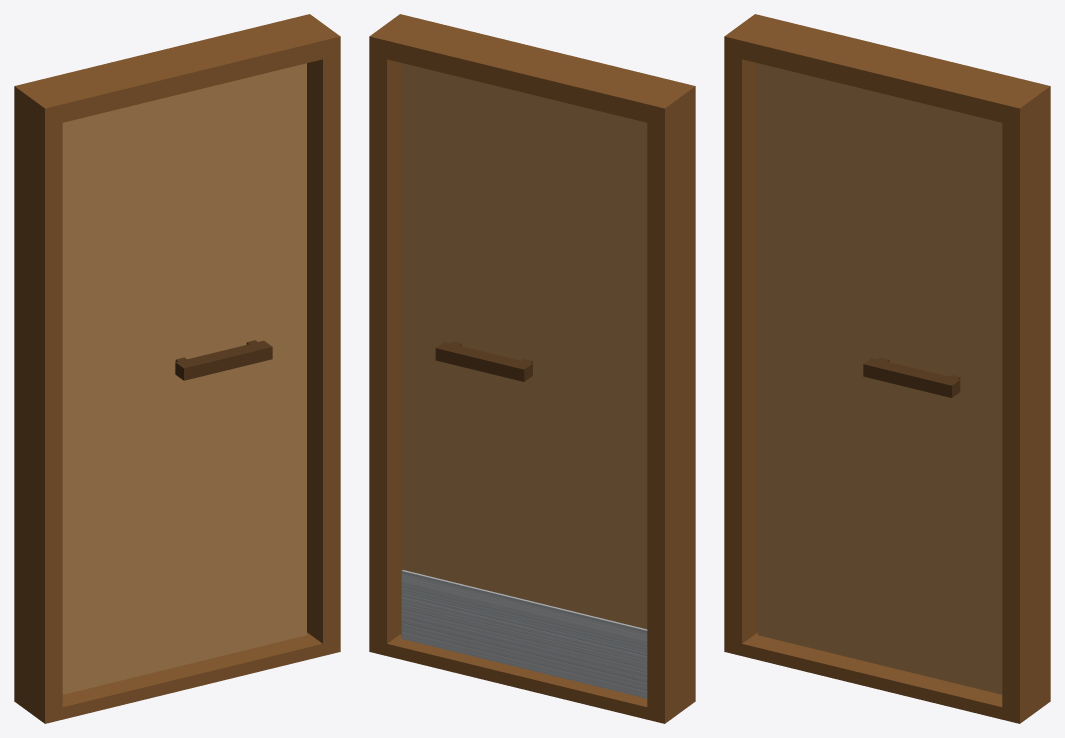
File: door-wood-1.glb
3 renders of one model, left to right at view 1: azimuth 30°, elevation 25°; view 2: azimuth 150°, elevation 25°; view 3: azimuth 330°, elevation 25°, orthographic.
Parts seen in each view (by area): view 1: passenger-swing-door, DoorWood1; view 2: passenger-swing-door, DoorWood1; view 3: passenger-swing-door, DoorWood1.
Part boxes in pixels (x1,y1,x2,y2): passenger-swing-door: [62, 63, 306, 694]; DoorWood1: [14, 14, 340, 723]; passenger-swing-door: [401, 63, 647, 698]; DoorWood1: [369, 14, 695, 723]; passenger-swing-door: [758, 63, 1002, 694]; DoorWood1: [724, 14, 1050, 723].
Bounding box in the file's own units: 1 × 1.99 × 0.19.
Materials: 4 (1 with a texture image).
